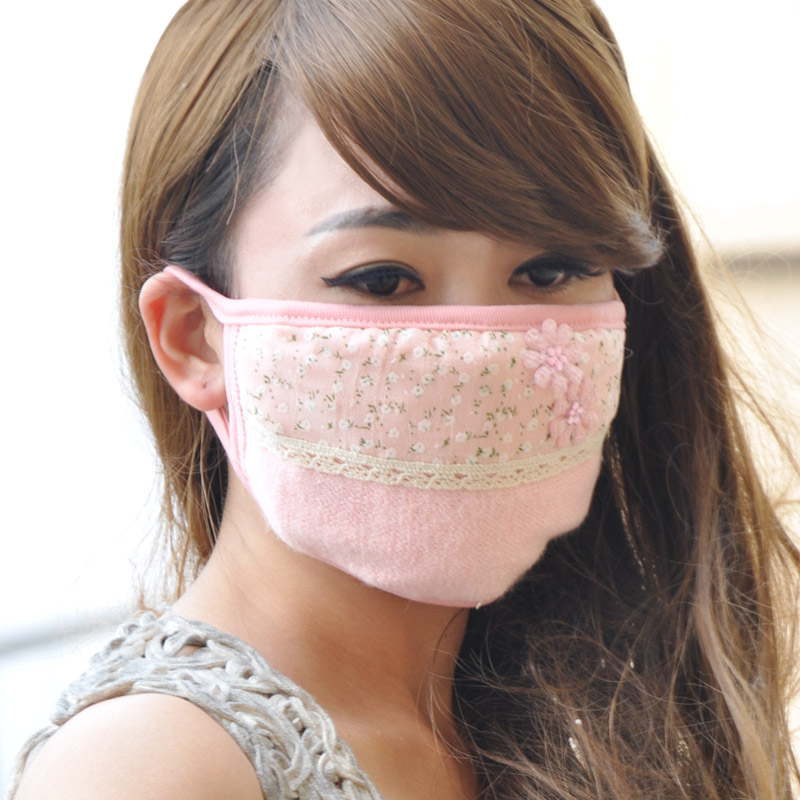face_mask: (244, 95, 627, 609)
